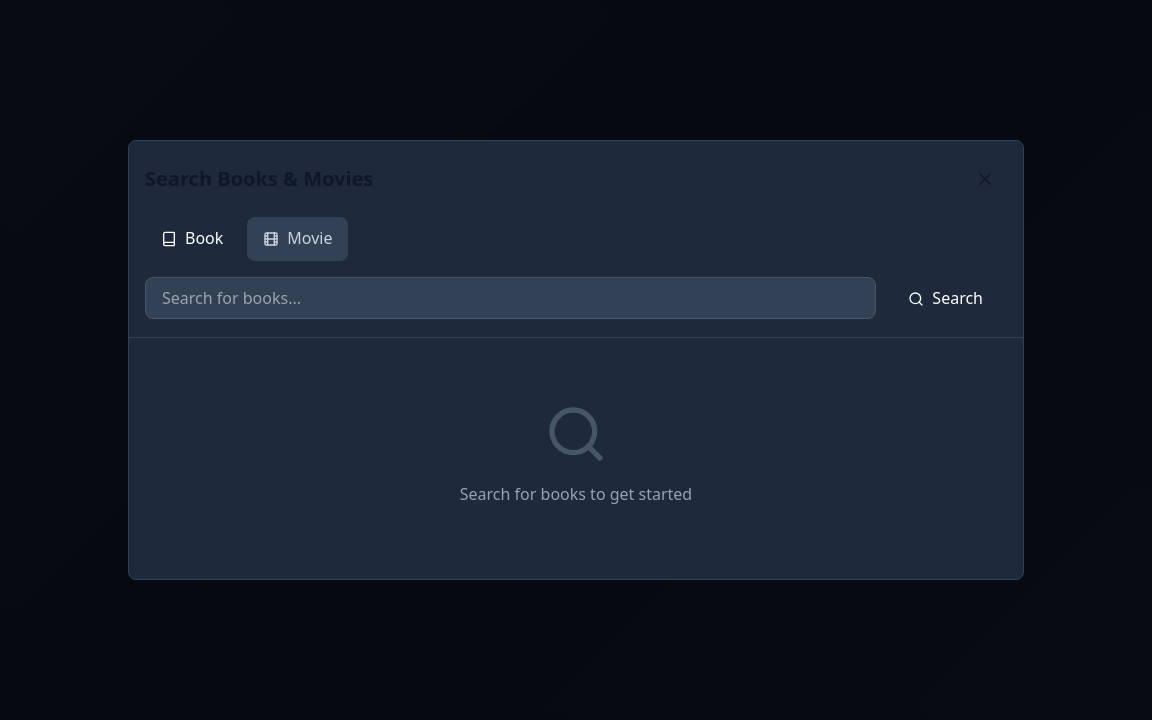
Scenario: SearchModal › search type switching › should switch back to book search
// Switch to movies
Click the button "movie" at (298,239), box [247,217,348,261]
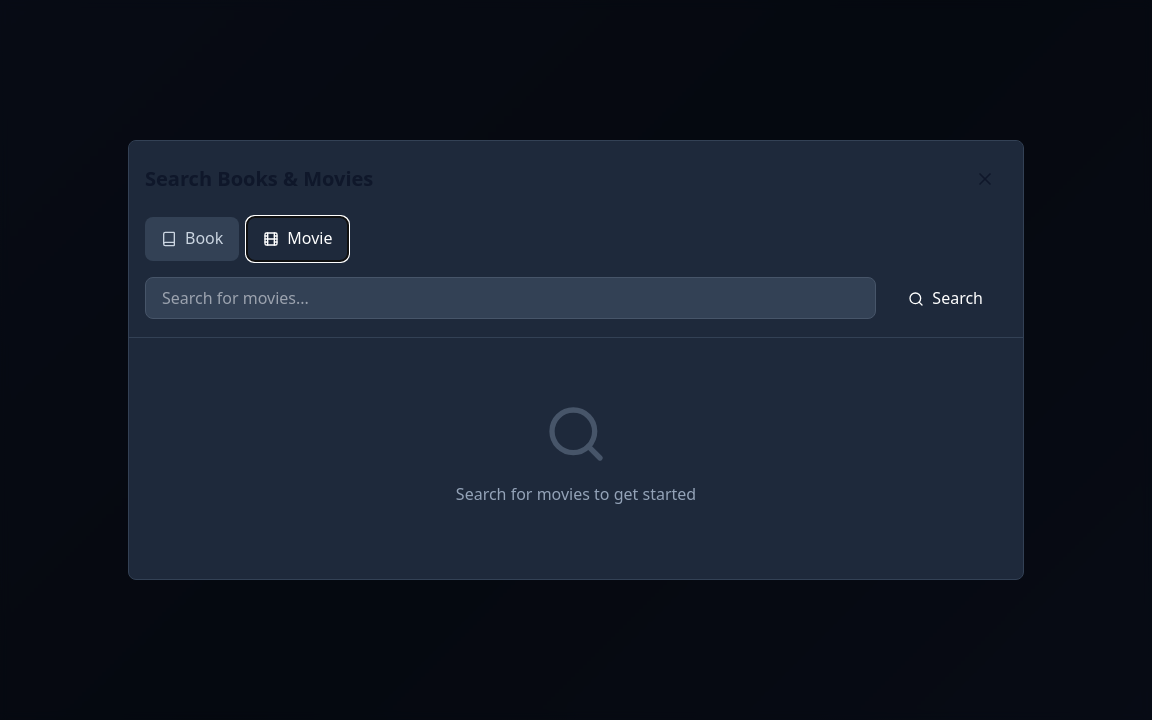
Expected: the field with placeholder "Search for movies..." is shown, [145,277,876,319]
// Switch back to books
Click the button "book" at (192,239), box [145,217,239,261]
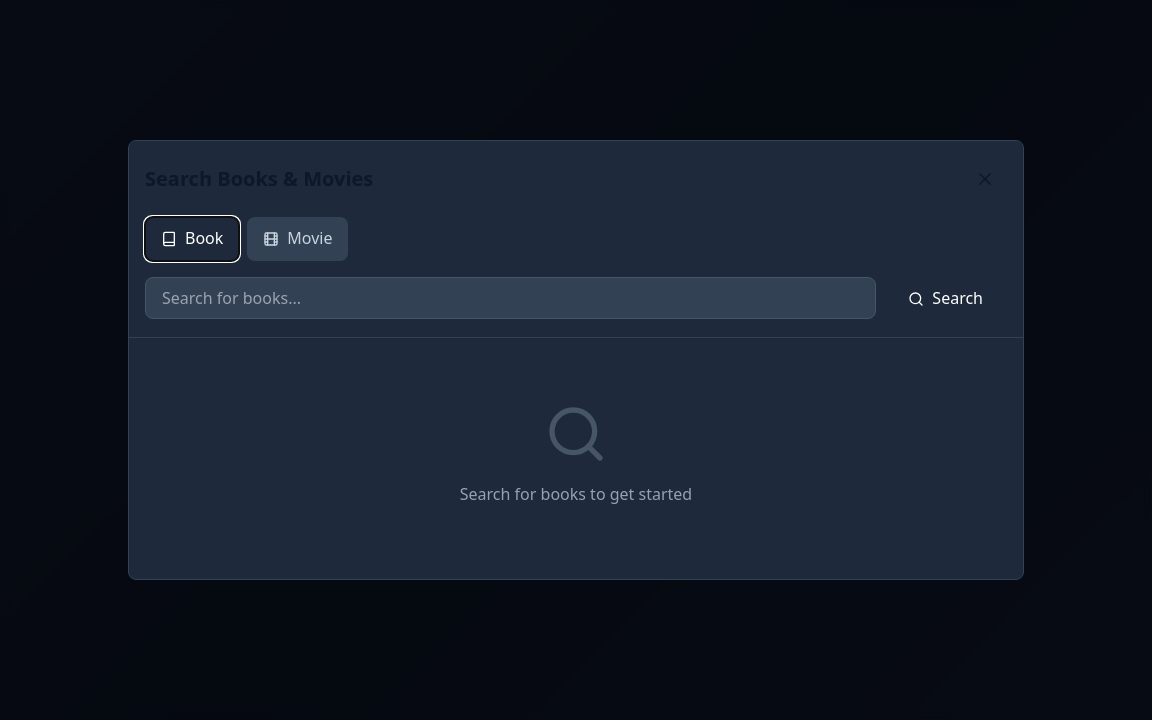
Expected: the field with placeholder "Search for books..." is shown, [145,277,876,319]
